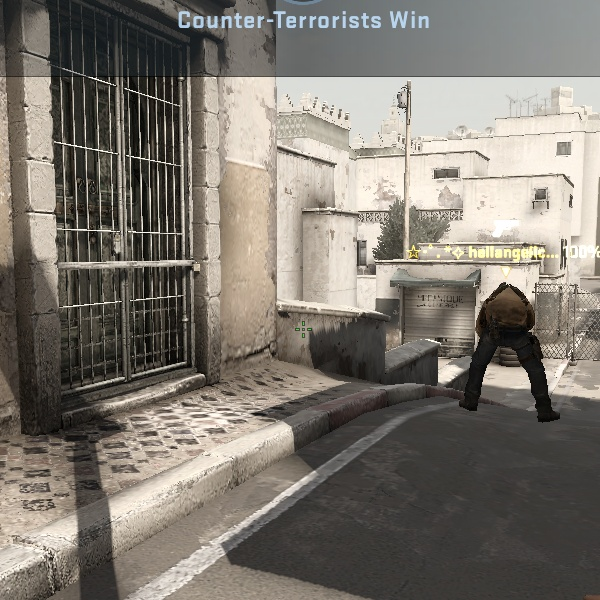t_body: (466, 273, 556, 422)
